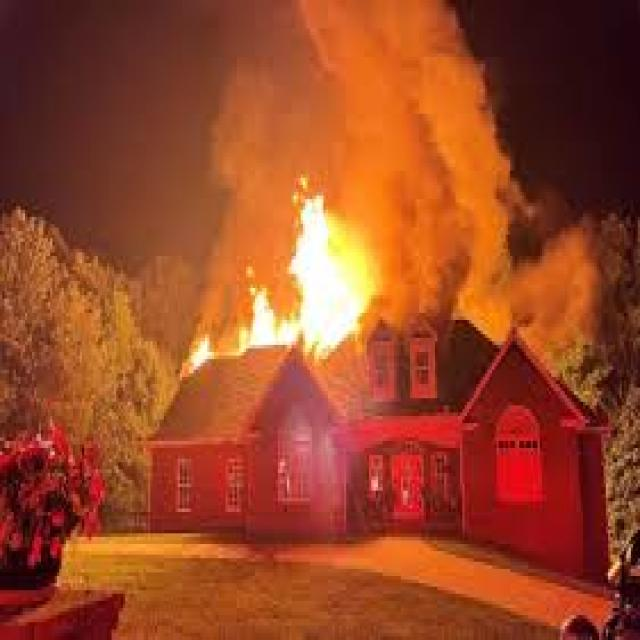fire: (169, 192, 368, 381)
